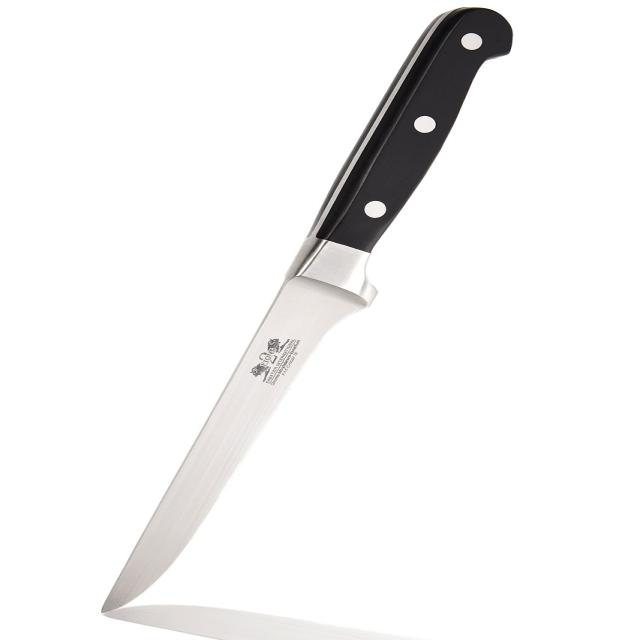Knife: (103, 8, 512, 612)
